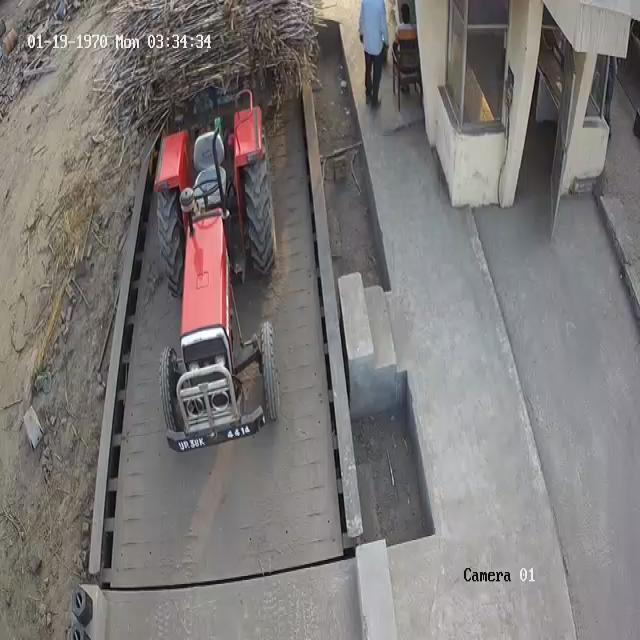Tratores - v5 YOLO V8L 2024-11-13: (159, 116, 283, 452)
